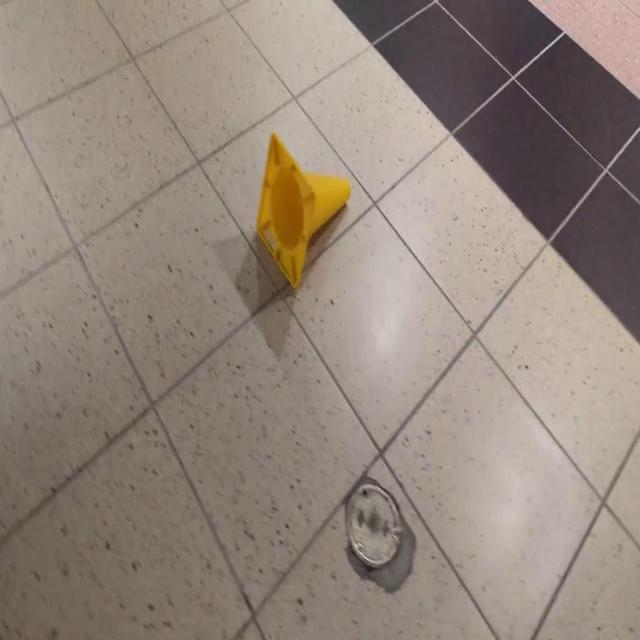frc_cone: (255, 132, 352, 292)
